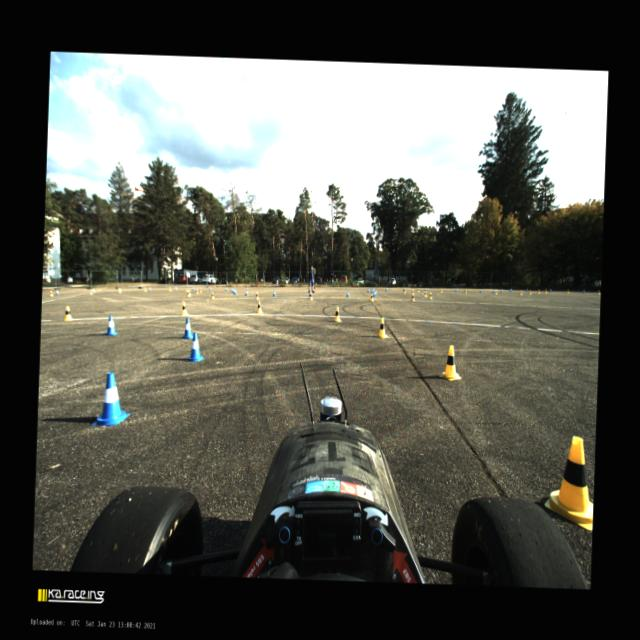blue_cone: (93, 371, 131, 425), (187, 331, 206, 362), (180, 317, 193, 338), (104, 314, 116, 334), (308, 289, 312, 296), (244, 290, 248, 296), (272, 290, 276, 296), (372, 290, 376, 296), (374, 289, 377, 295), (225, 286, 228, 291), (346, 290, 348, 296), (384, 286, 386, 292), (548, 288, 551, 292), (234, 288, 236, 294), (174, 286, 177, 290), (56, 290, 59, 294), (366, 287, 368, 292), (424, 286, 426, 291), (454, 287, 456, 292), (232, 288, 234, 293), (492, 288, 494, 293), (479, 288, 481, 292), (582, 288, 584, 292), (525, 287, 527, 291), (509, 288, 511, 292), (500, 288, 502, 292), (230, 287, 232, 291), (208, 286, 210, 290), (192, 286, 194, 290), (149, 286, 151, 290)
yellow_cone: (544, 435, 596, 533), (438, 344, 462, 380), (377, 317, 388, 337), (63, 305, 73, 320), (332, 306, 340, 321), (180, 301, 188, 315), (256, 300, 263, 314), (422, 290, 427, 297), (210, 290, 214, 298), (255, 292, 259, 300), (309, 292, 313, 300), (370, 293, 374, 301), (410, 292, 414, 300), (428, 292, 432, 299), (402, 288, 406, 294), (536, 288, 540, 294), (50, 290, 54, 296), (89, 288, 93, 294), (518, 290, 522, 295), (198, 288, 202, 293), (187, 290, 190, 296), (544, 288, 547, 294), (566, 288, 569, 294), (185, 286, 188, 292), (188, 289, 191, 295), (411, 289, 414, 294), (416, 287, 419, 292), (439, 287, 442, 292), (168, 286, 171, 291), (464, 288, 466, 294), (494, 290, 497, 294), (528, 290, 531, 294), (196, 288, 198, 294), (597, 290, 600, 294), (118, 288, 121, 292), (144, 286, 146, 292)
